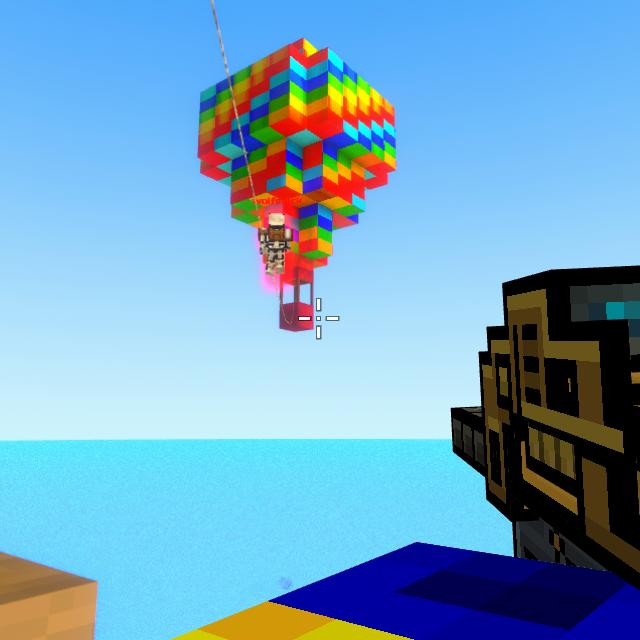Enemy: (260, 213, 296, 274)
